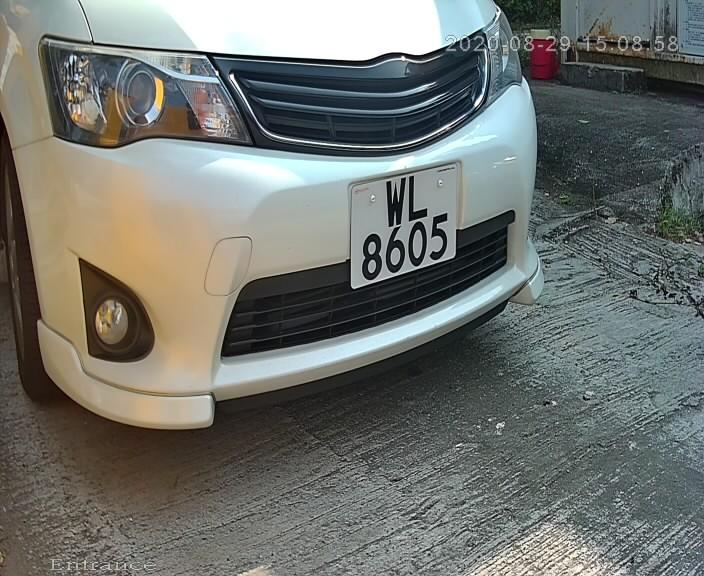License Plate: (329, 128, 468, 319)
